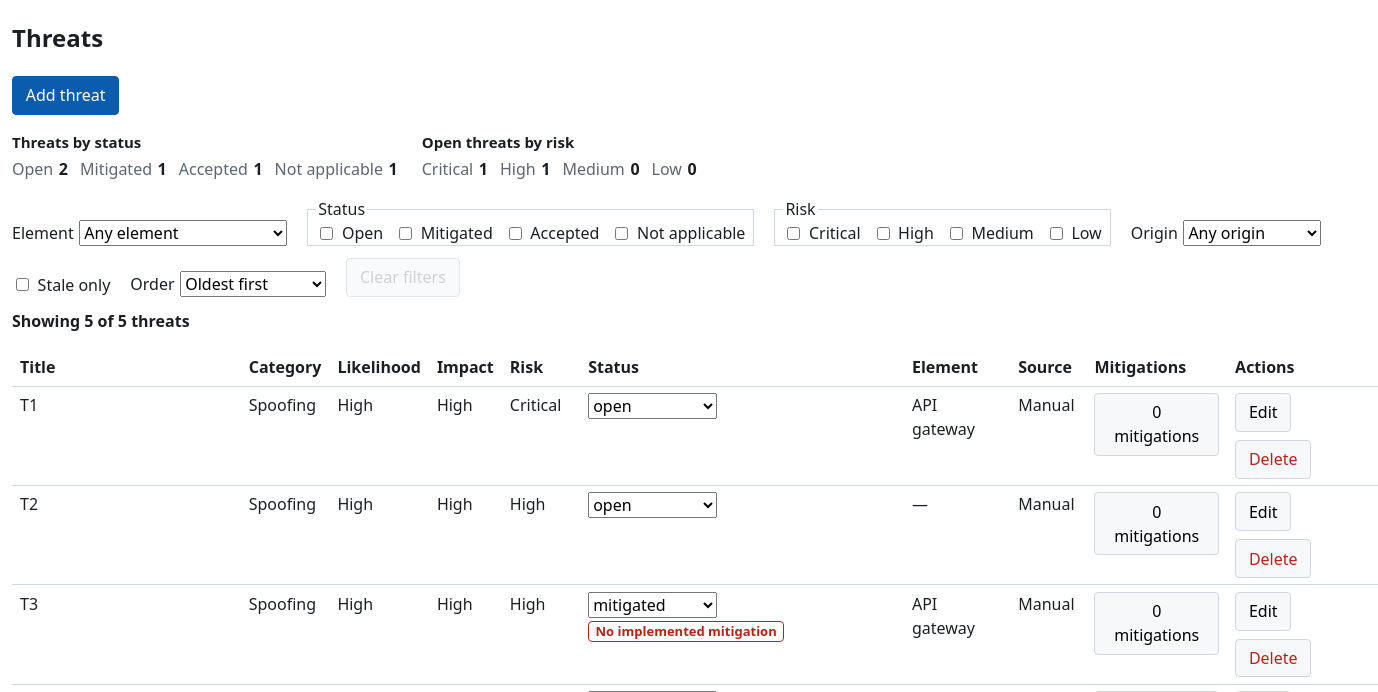
it: the count line and the filters in the address (FR-019) › puts a chosen filter in the address, and applies it at once
This screenshot has width=1378, height=692.
Expected: the text "T1" is shown, [12,386,241,486]
Step 1. Click the checkbox labelled "Open" → {"x": 327, "y": 233}, box [320,227,333,240]
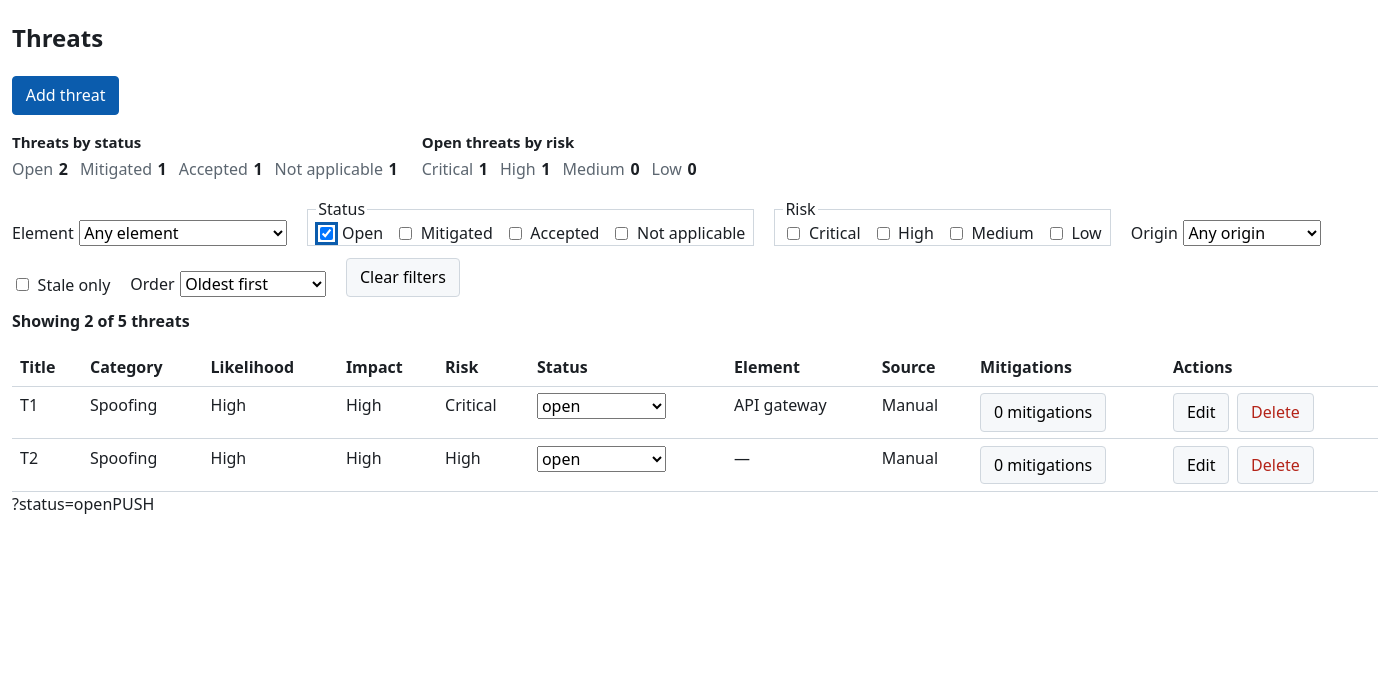
Now the text with test id "search" reads "?status=open", box [12,493,112,515]
Now the text with test id "how" reads "PUSH", box [112,493,154,515]
Now the text "Showing 2 of 5 threats" is shown, box [12,310,190,332]
